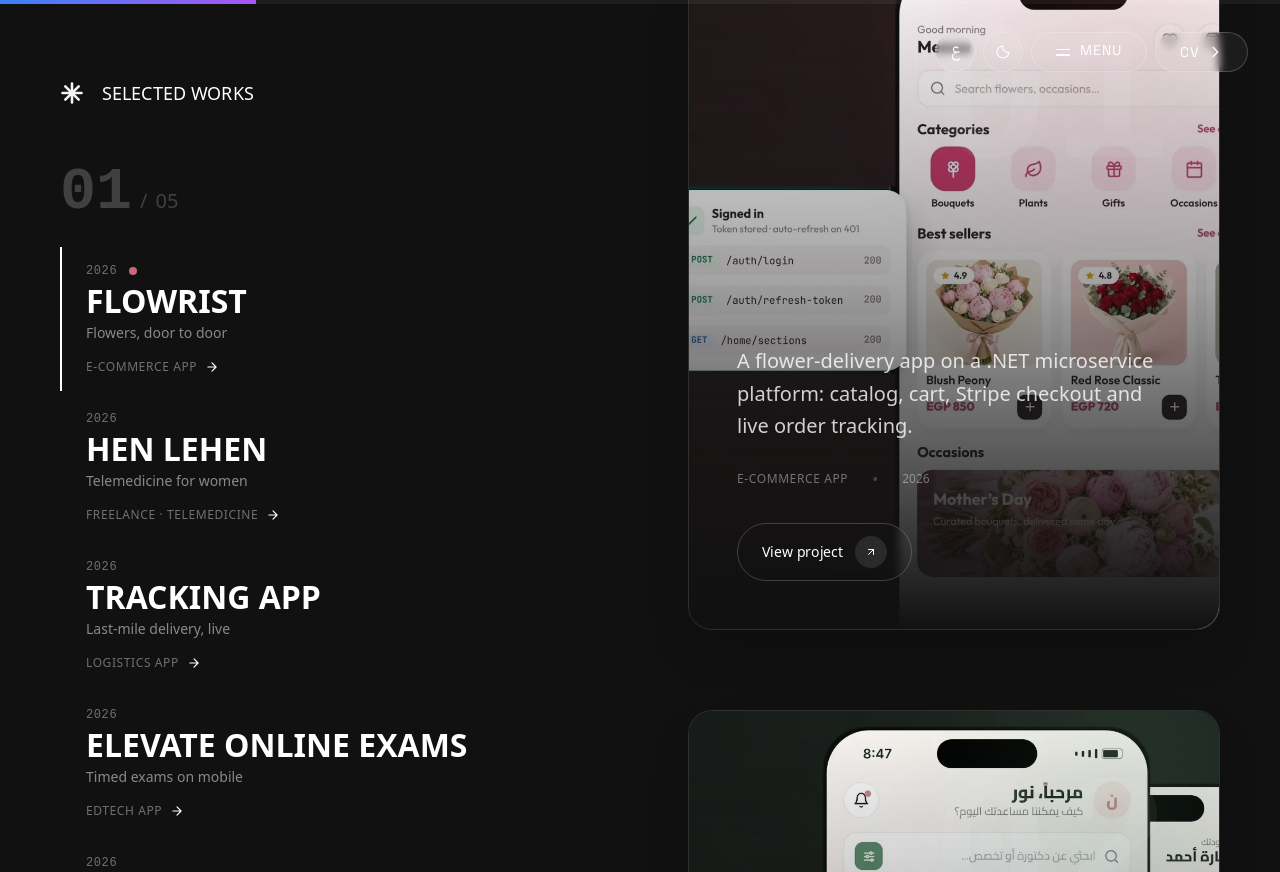
the home page › makes the hovered entry the active one
(page scrolled)
Hover over the link "2026 Tracking App Last-mile delivery, live Logistics app" at [204, 616], box [86,560,321,671]
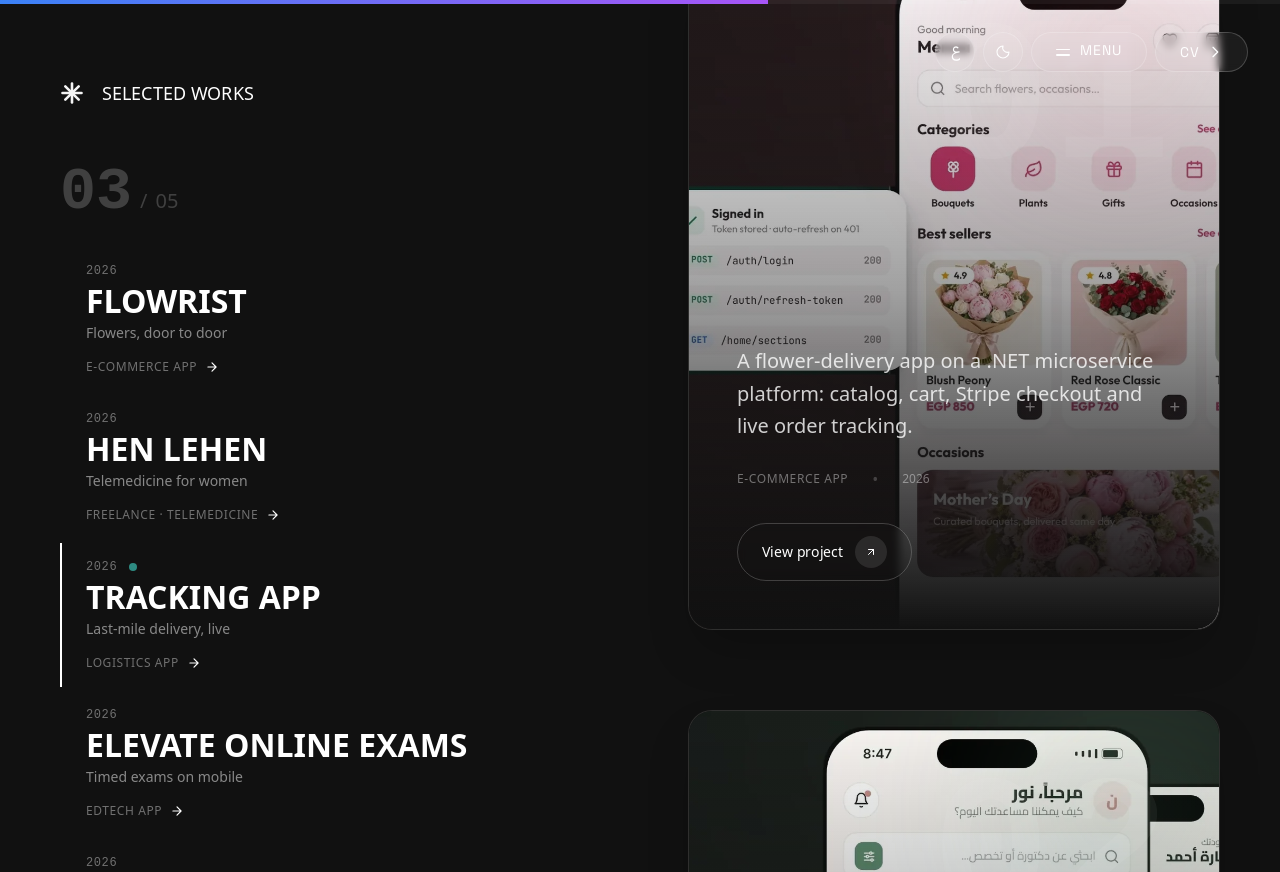
Now the text with class "counter__num" reads "03", box [60,158,132,215]
